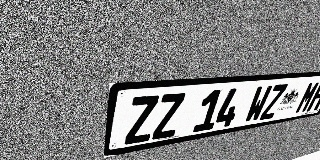1: (193, 89, 225, 133)
4: (213, 88, 245, 129)
H: (306, 80, 320, 112)
M: (294, 81, 320, 114)
W: (243, 85, 273, 123)
Z: (124, 95, 159, 145), (152, 93, 186, 140), (259, 84, 288, 120)
